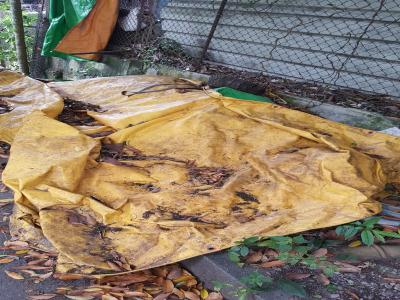plastic_bag: (1, 73, 370, 260)
